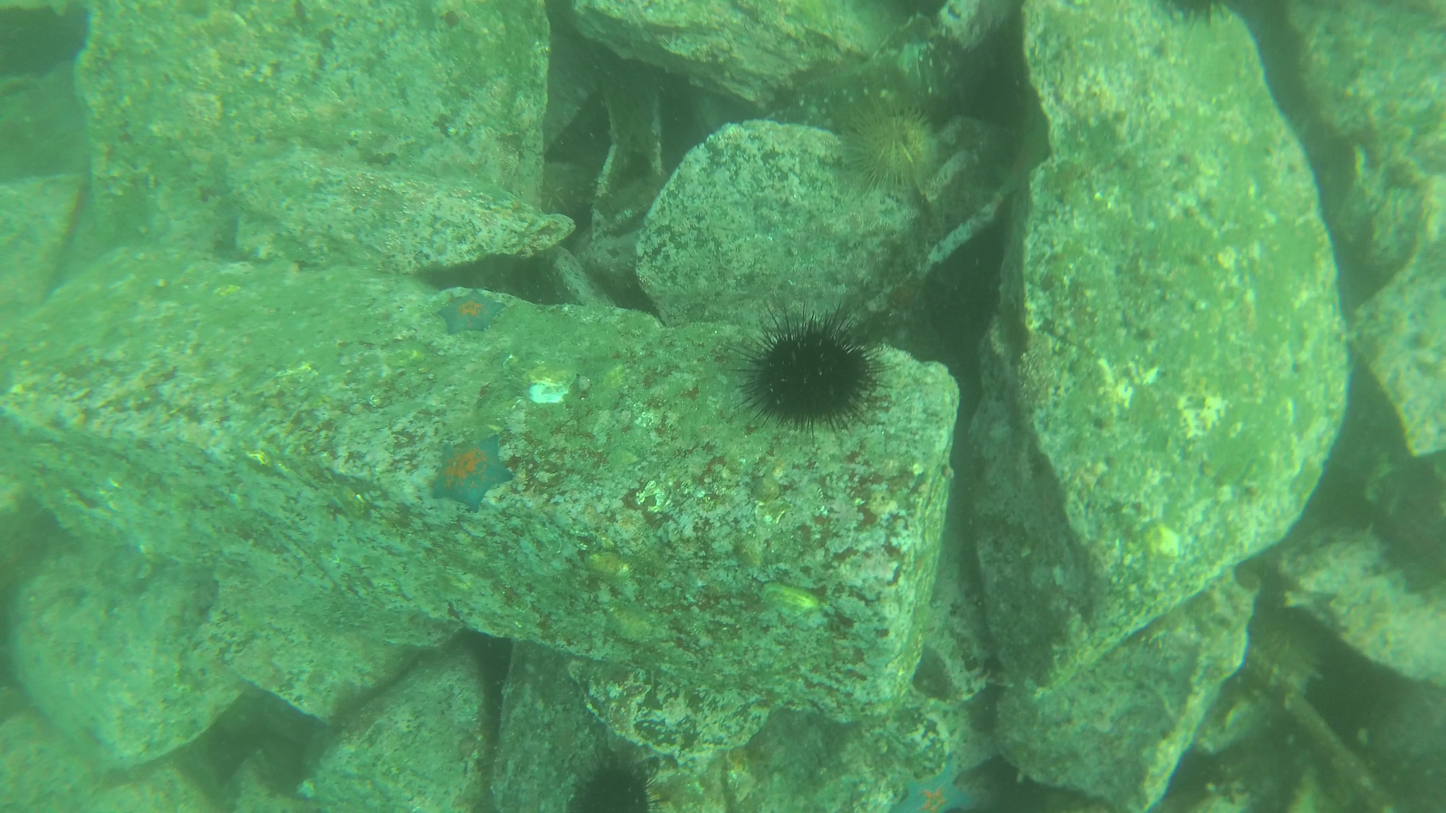holothurian: (428, 439, 513, 511), (888, 759, 985, 813), (438, 289, 506, 340)
starfish: (750, 326, 877, 429), (853, 108, 945, 194), (570, 756, 656, 813)
